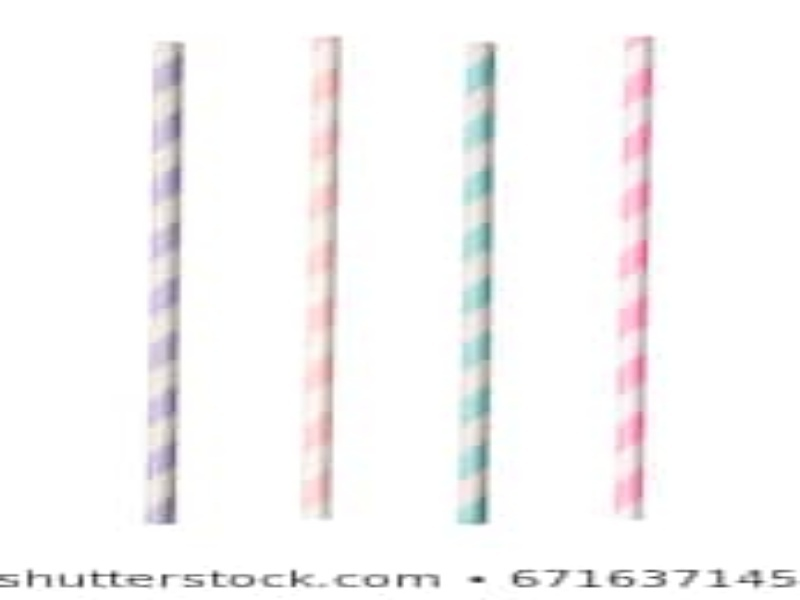straw: (144, 38, 185, 530), (617, 35, 658, 527), (458, 37, 499, 529), (302, 31, 343, 523)
